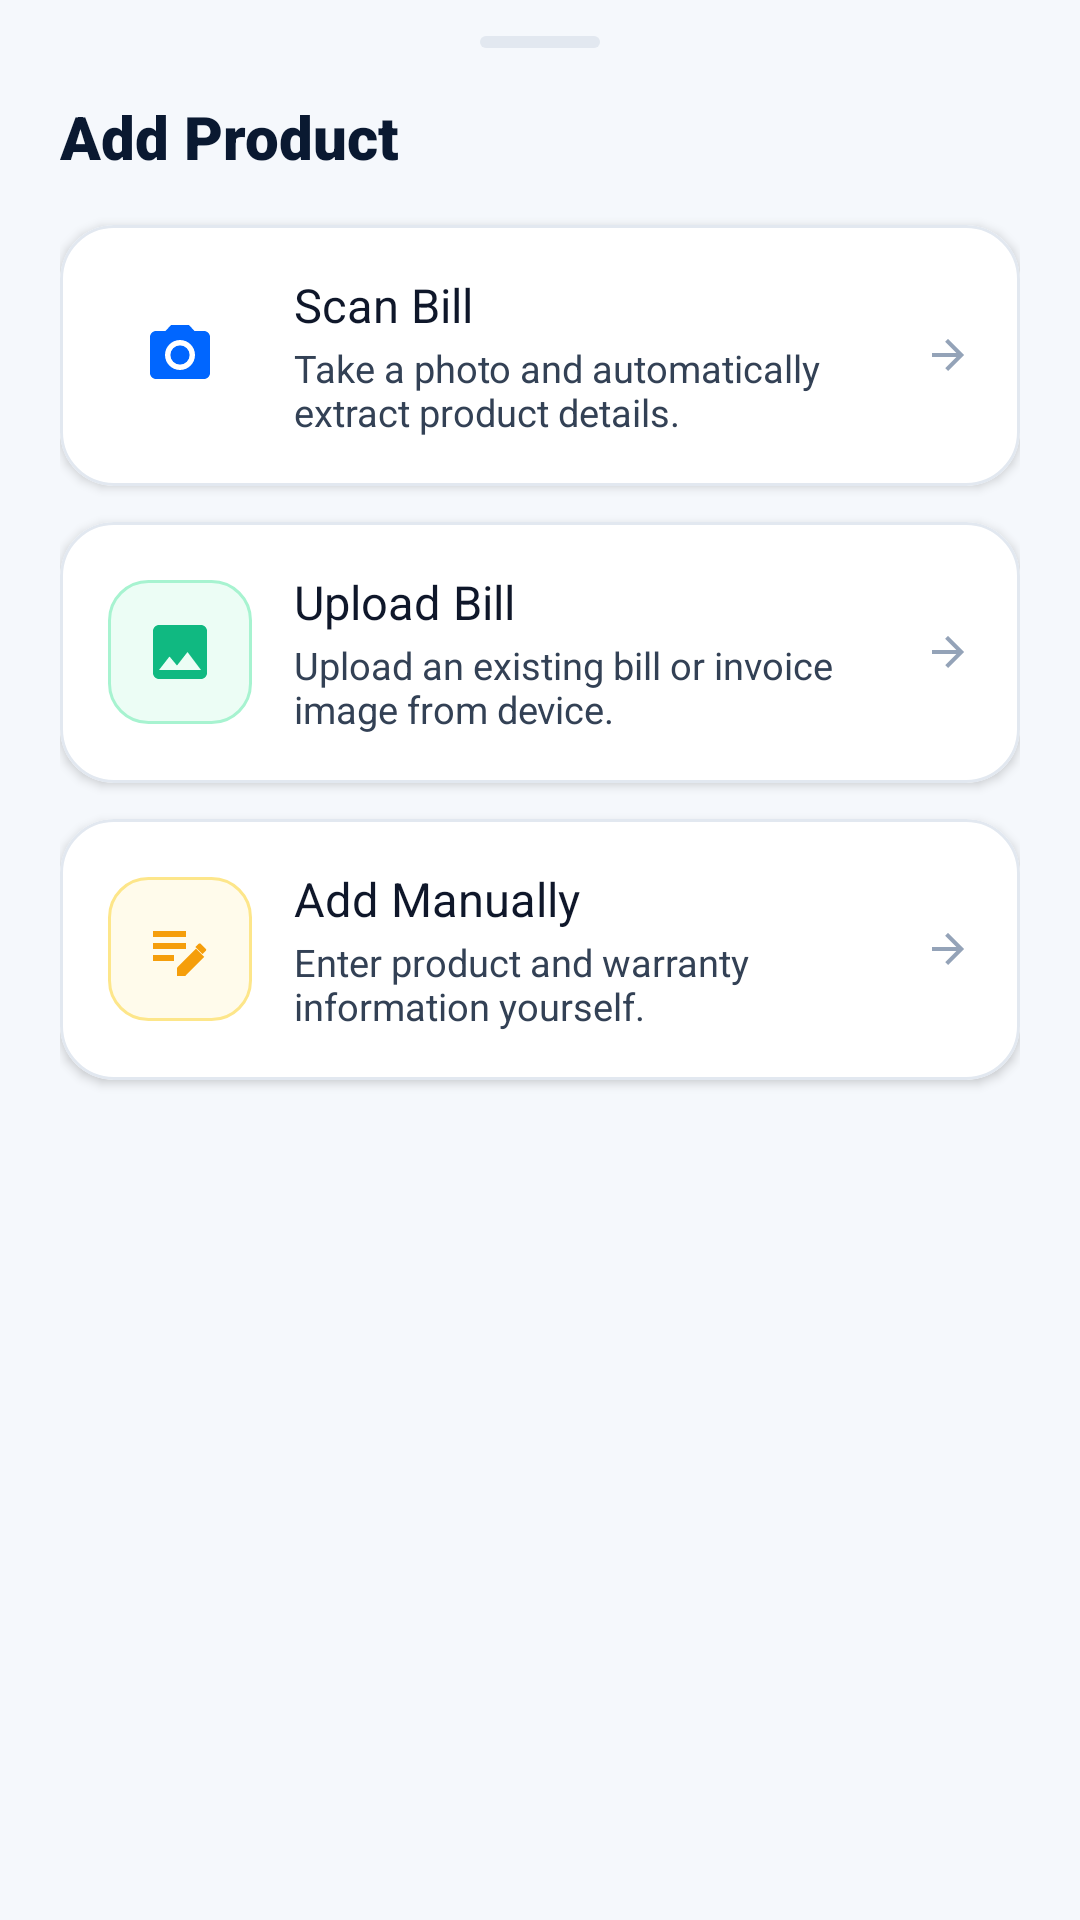

Screen size 1080*1920. Icon name, then its box in pixels as (x1, y1, x2, y2):
Go: (932, 339, 964, 371), (932, 636, 964, 668), (932, 933, 964, 965)
